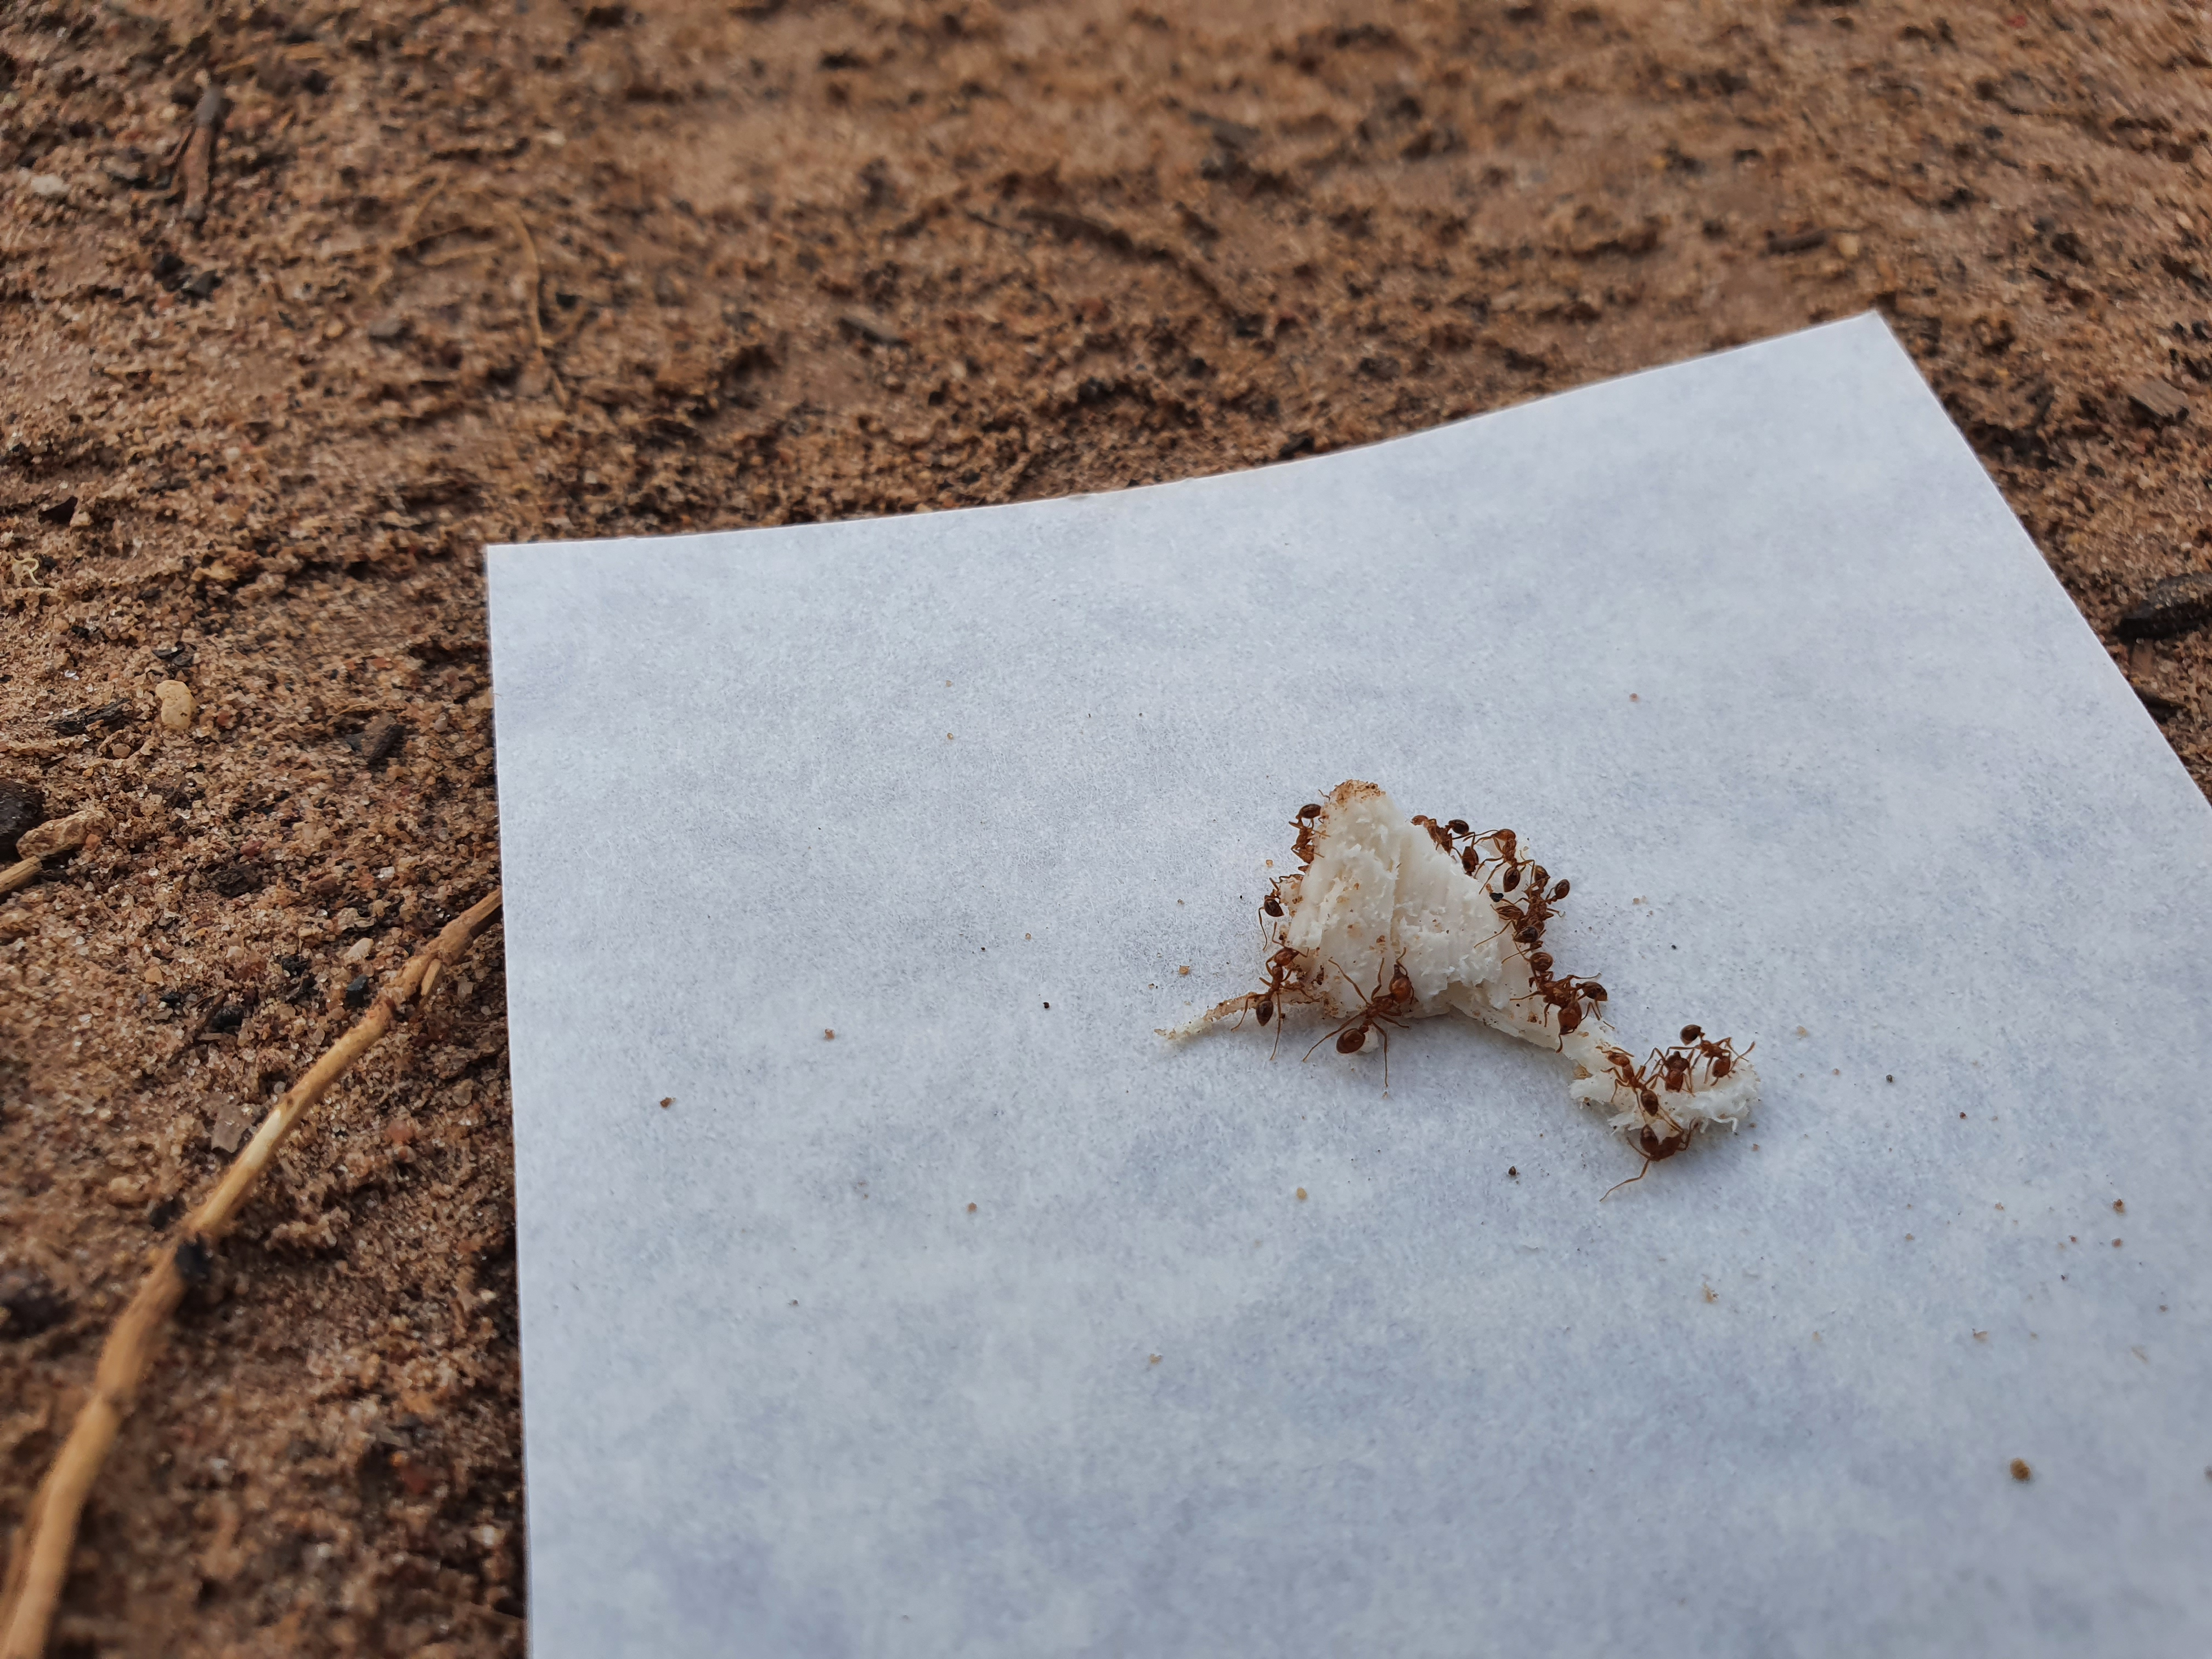Solenopsis_geminata: (1310, 924, 1435, 1112), (1221, 920, 1332, 1073)
